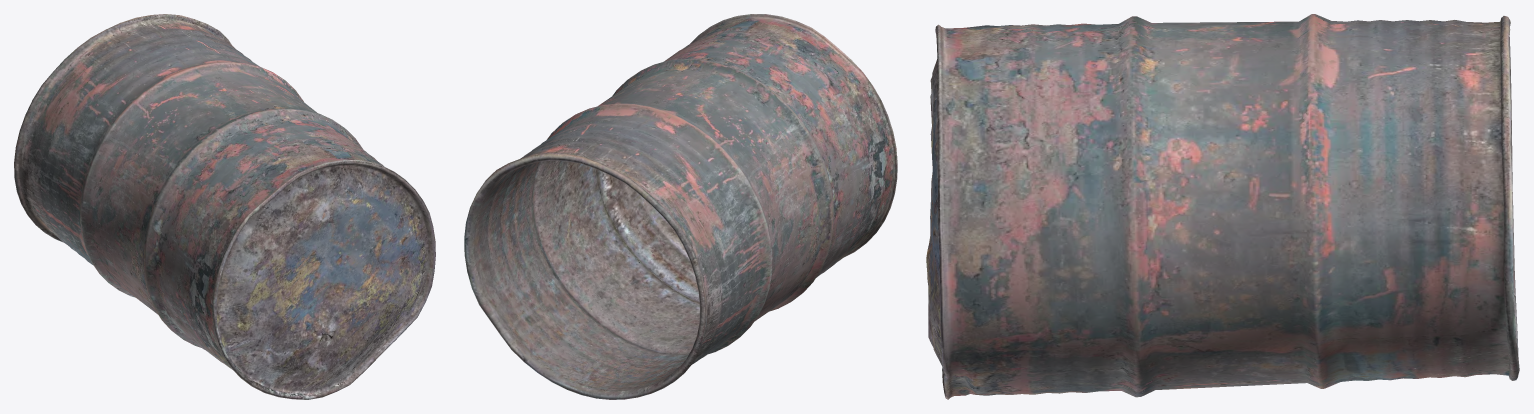
Rendered from barrel_lying.glb.
3 views of the same model, side by side, from view 1: azimuth 30°, elevation 25°; view 2: azimuth 150°, elevation 25°; view 3: azimuth 270°, elevation 25° (orthographic). The views are drawn at different scales.
Parts seen in each view (by area): view 1: sud_low001; view 2: sud_low001; view 3: sud_low001.
Boxes of the visible parts, box(x1,y1,x2,y2) form: sud_low001: box(14, 14, 435, 399); sud_low001: box(464, 14, 897, 399); sud_low001: box(926, 14, 1519, 399).
Size of the model in its own units: 0.6322 by 0.6165 by 0.9339.
1 material, 1 textured.
